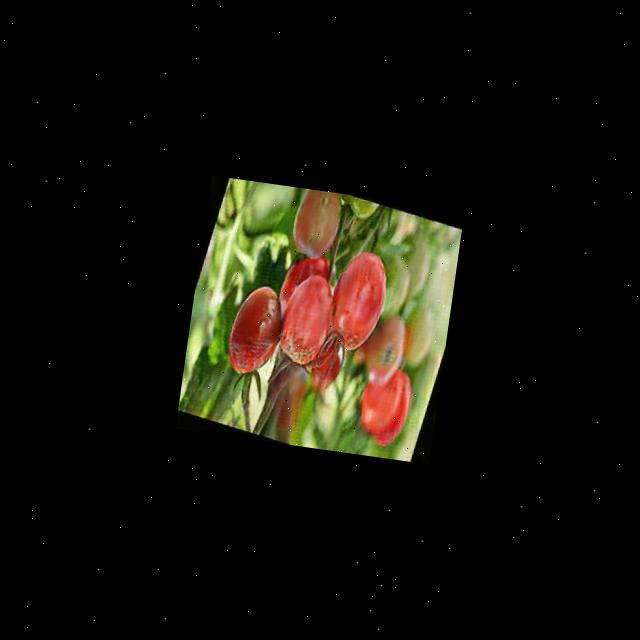tomato: (328, 248, 392, 355), (225, 282, 287, 378), (277, 272, 338, 369), (288, 188, 344, 264)
